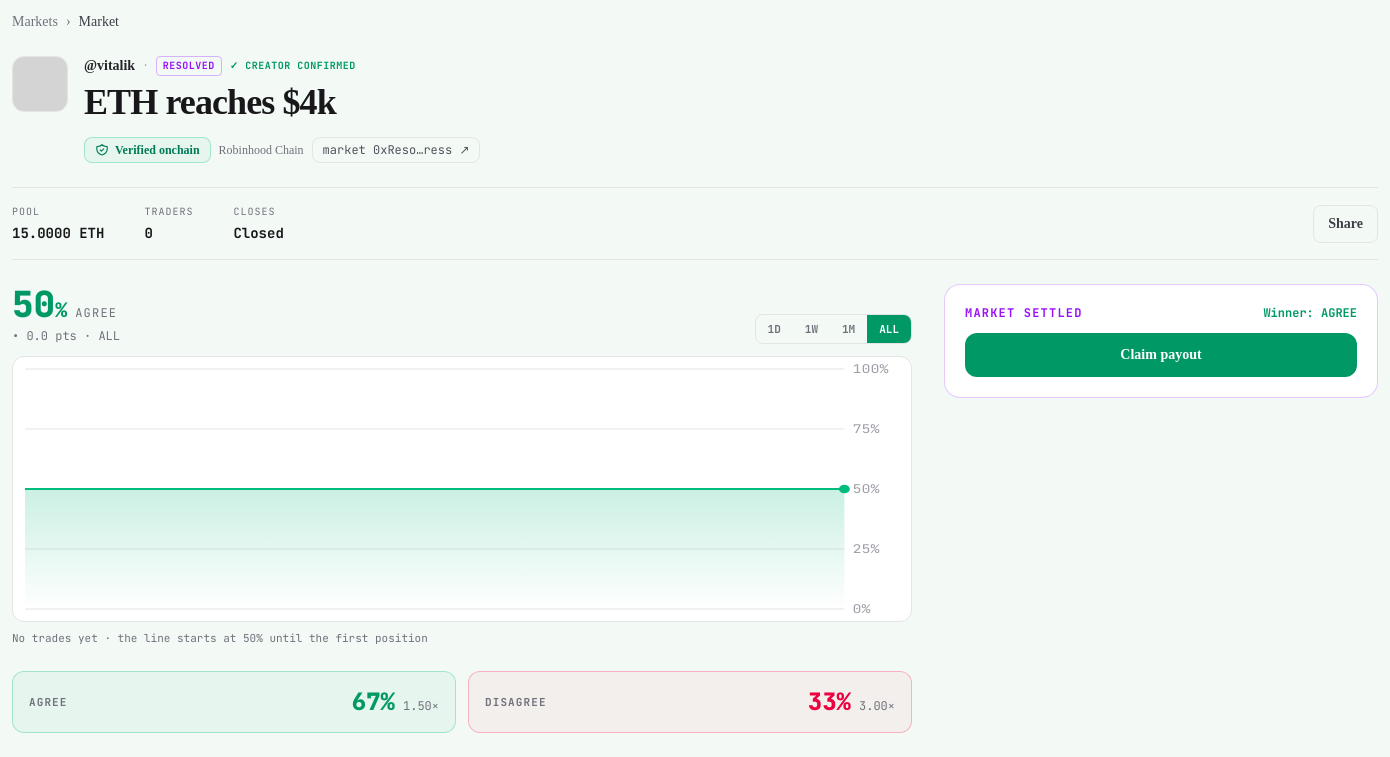
it: Market Detail Page (/market/[id]) › renders resolved market state and handles claim button
The width and height of the screenshot is (1390, 757).
Expected: the text "Market settled" is shown, [965,305,1083,321]
Click the button "Claim payout" at (1161, 355), box [965,333,1357,377]
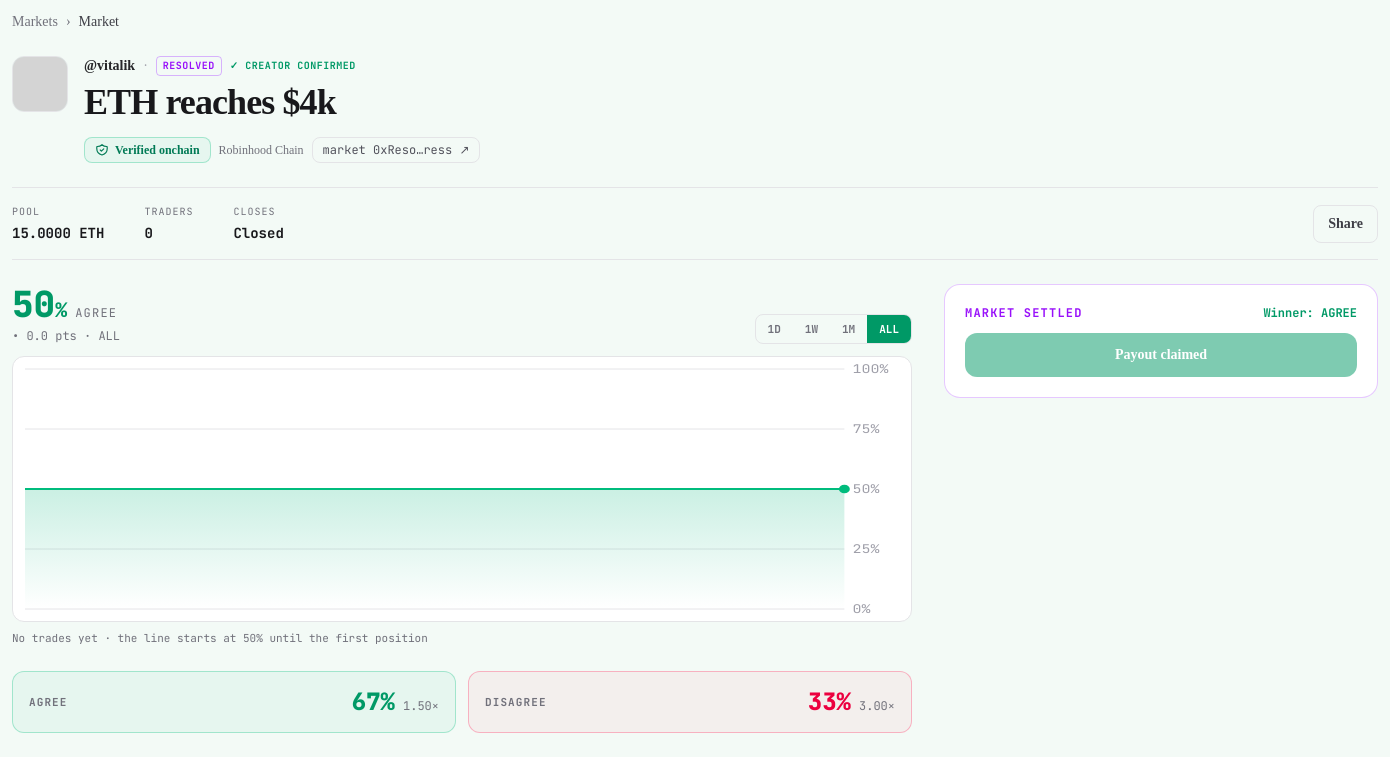
Expected: the button "Payout claimed" is shown, [965,333,1357,377]
